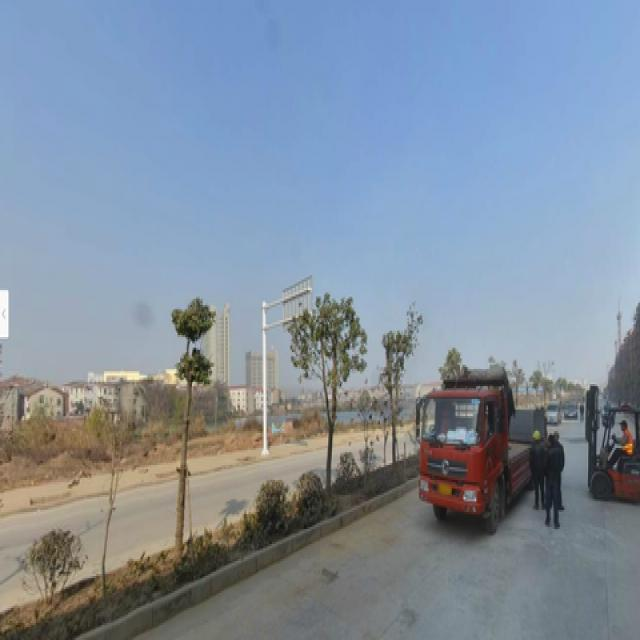cinn: (170, 299, 202, 550), (302, 298, 338, 476)
